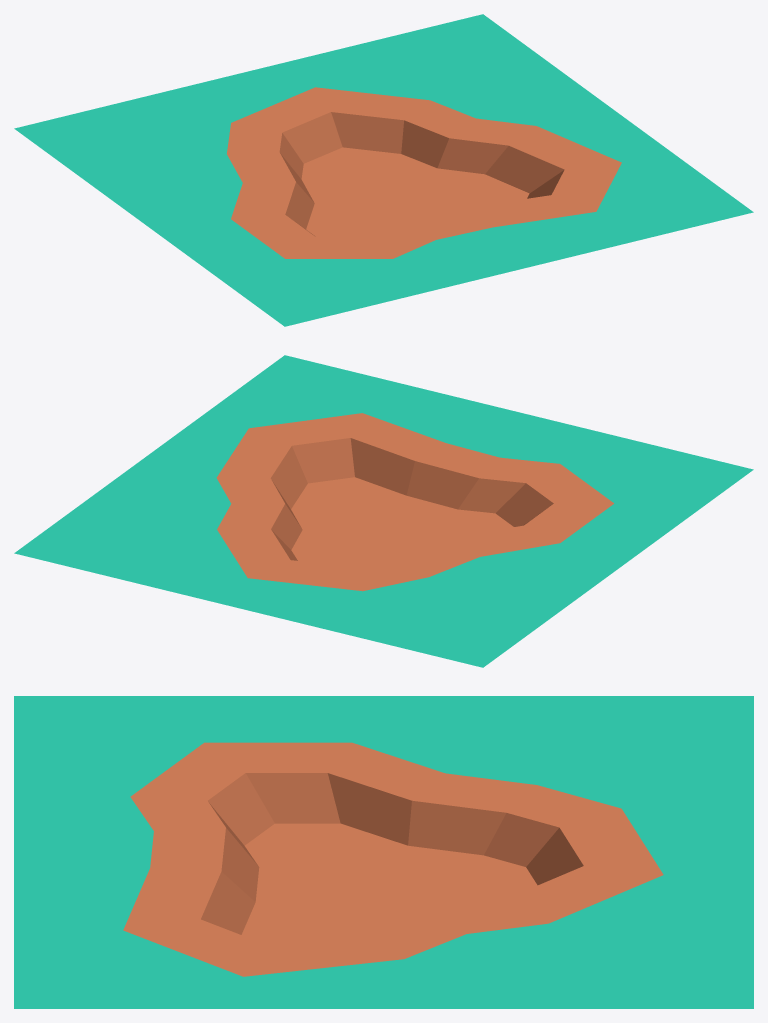
File: ground_pathTile.fbx
3 renders of one model, top to bottom at view 1: azimuth 30°, elevation 25°; view 2: azimuth 150°, elevation 25°; view 3: azimuth 270°, elevation 25°, orthographic. The views are drawn at different scales.
Visible parts, largest first — view 1: ground_pathTile; view 2: ground_pathTile; view 3: ground_pathTile.
Part boxes in pixels (<box>): ground_pathTile: <box>14,14,753,326</box>; ground_pathTile: <box>14,355,753,667</box>; ground_pathTile: <box>14,696,753,1008</box>.
Bounding box in the file's own units: 10 × 0.5 × 10.
